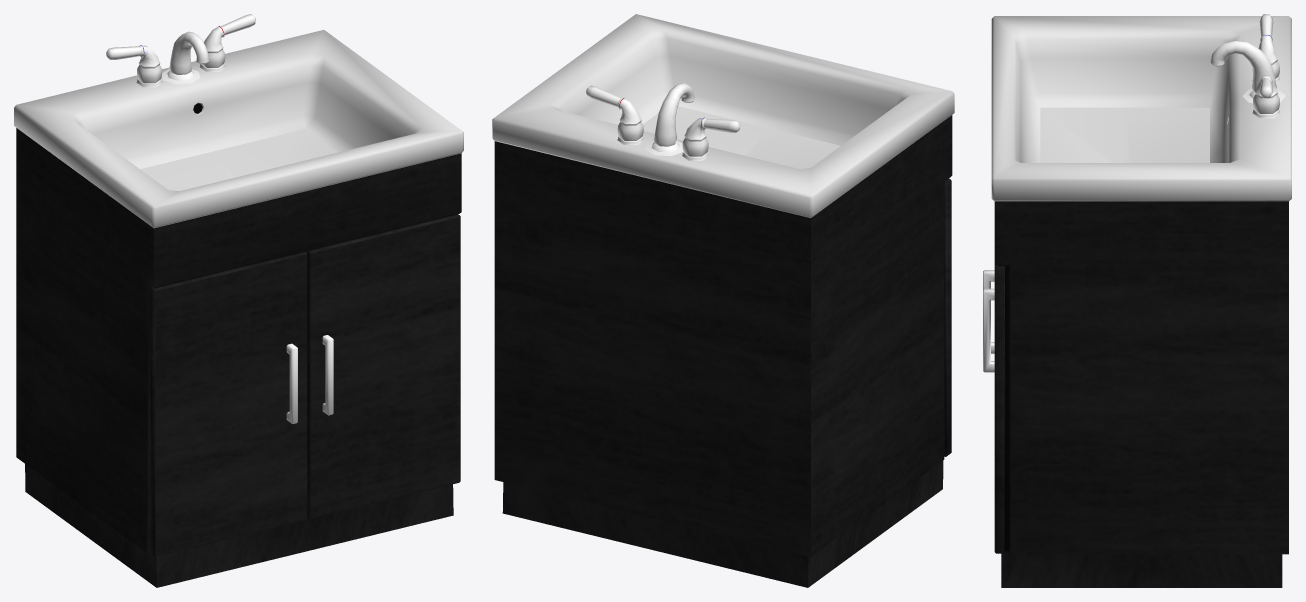
Rendered from Bathroom Sink.fbx.
3 views of the same model, side by side, from view 1: azimuth 30°, elevation 25°; view 2: azimuth 150°, elevation 25°; view 3: azimuth 270°, elevation 25° (orthographic). The views are drawn at different scales.
Parts seen in each view (by area): view 1: Material; view 2: Material; view 3: Material.
Boxes of the visible parts, left/top/right/bottom form: Material: left=14, top=14, right=463, bottom=587; Material: left=492, top=14, right=954, bottom=587; Material: left=983, top=14, right=1291, bottom=587.
Size of the model in its own units: 257 by 344 by 206.
